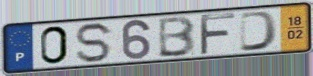0: (38, 25, 70, 67)
6: (120, 18, 153, 61)
B: (157, 14, 198, 59)
D: (238, 9, 281, 53)
F: (198, 11, 238, 57)
S: (74, 21, 116, 65)
